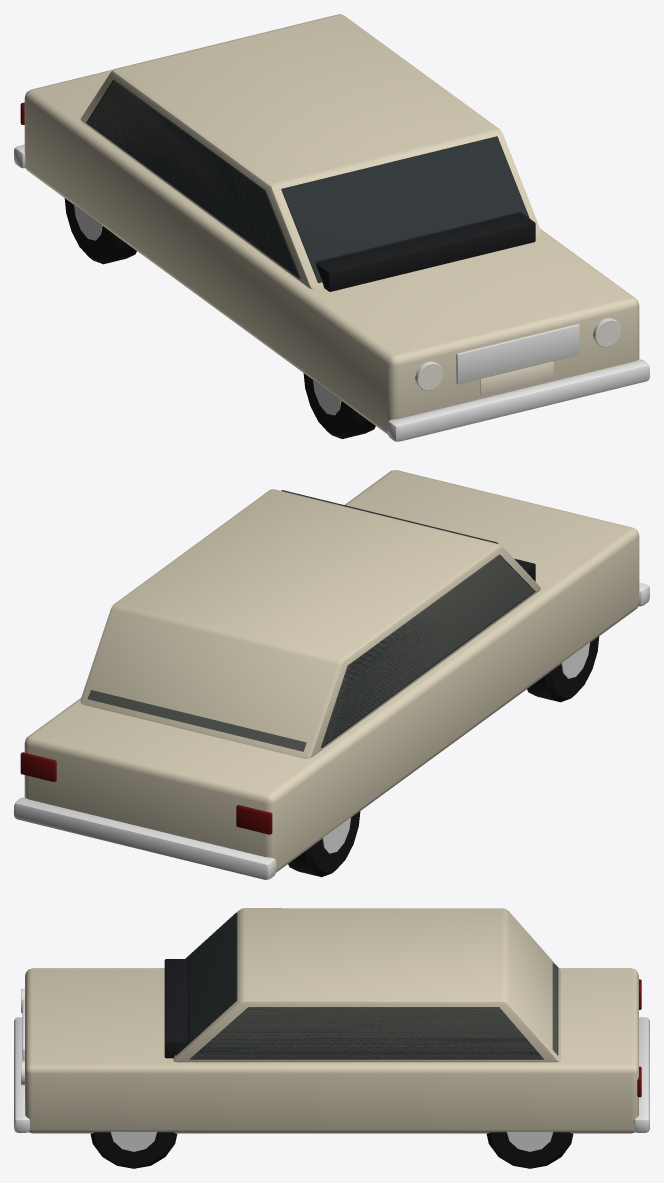
The model's file is mae_car.glb.
3 views of the same model, one above another, from view 1: azimuth 30°, elevation 25°; view 2: azimuth 150°, elevation 25°; view 3: azimuth 270°, elevation 25° (orthographic). The views are drawn at different scales.
Visible parts, largest first — view 1: mae_car; view 2: mae_car; view 3: mae_car.
Boxes of the visible parts, bbox=[...] form: mae_car: bbox=[14, 14, 649, 441]; mae_car: bbox=[14, 470, 649, 879]; mae_car: bbox=[14, 908, 649, 1168].
Size of the model in its own units: 1.76 by 1.32 by 4.56.
